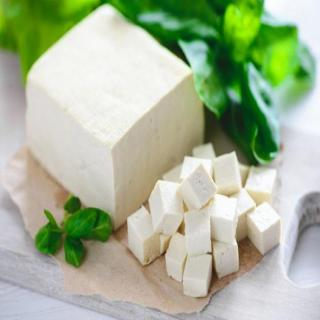Tahu: (5, 13, 316, 307)
